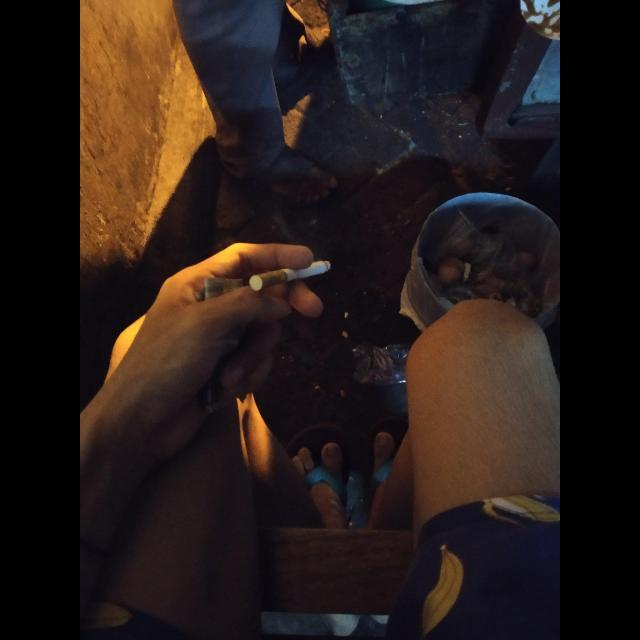rokok: (246, 256, 340, 292)
